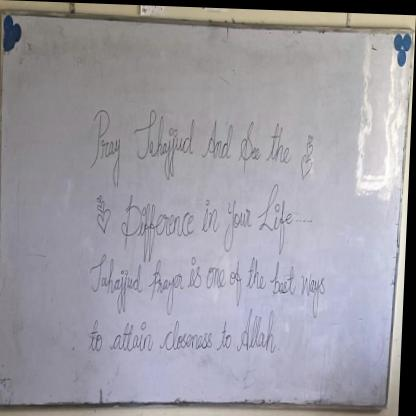Handwritten text: (91, 101, 298, 181), (90, 247, 332, 311), (120, 175, 295, 256), (82, 305, 287, 365)
Whiteboard: (0, 13, 405, 411)
